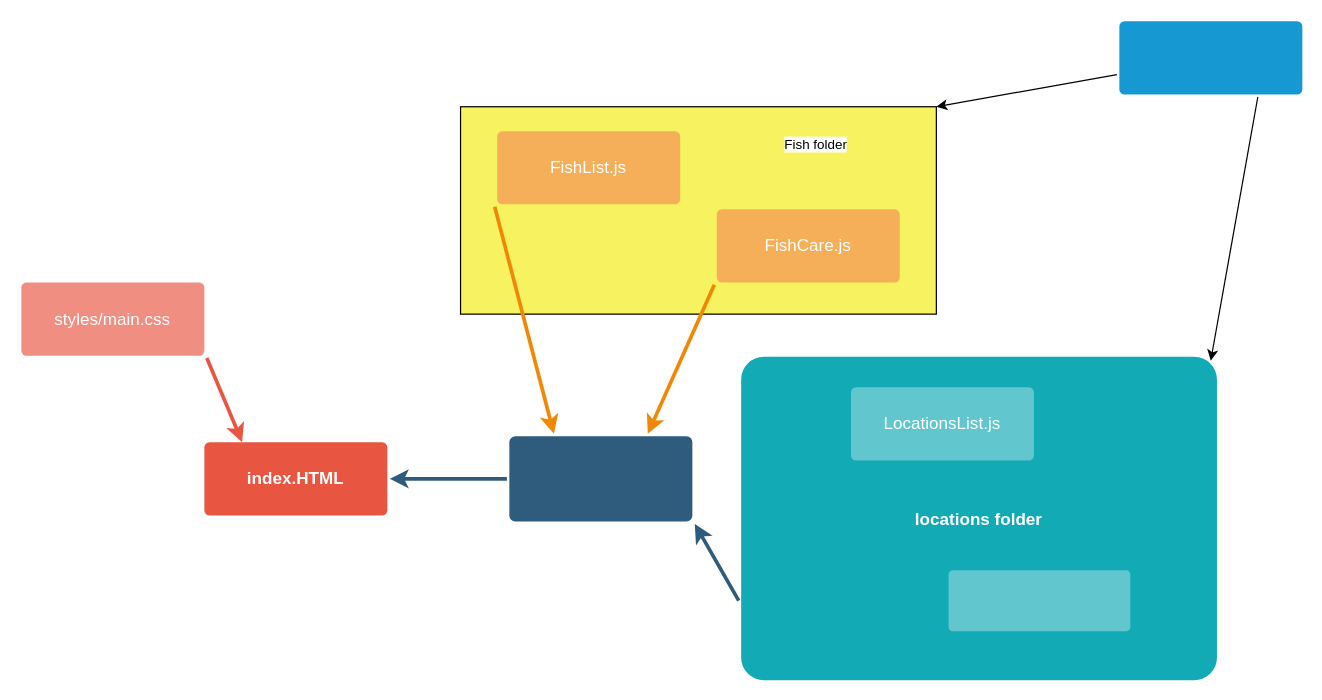
This 1322x700 diagram has some shape labels left out. Here are the shapes that lost their labels. From the top down, the centre of each, then its label:
At point 1210,57: "Database.js".
At point 600,478: "Main.js".
At point 1039,600: "TravelTips.js".
